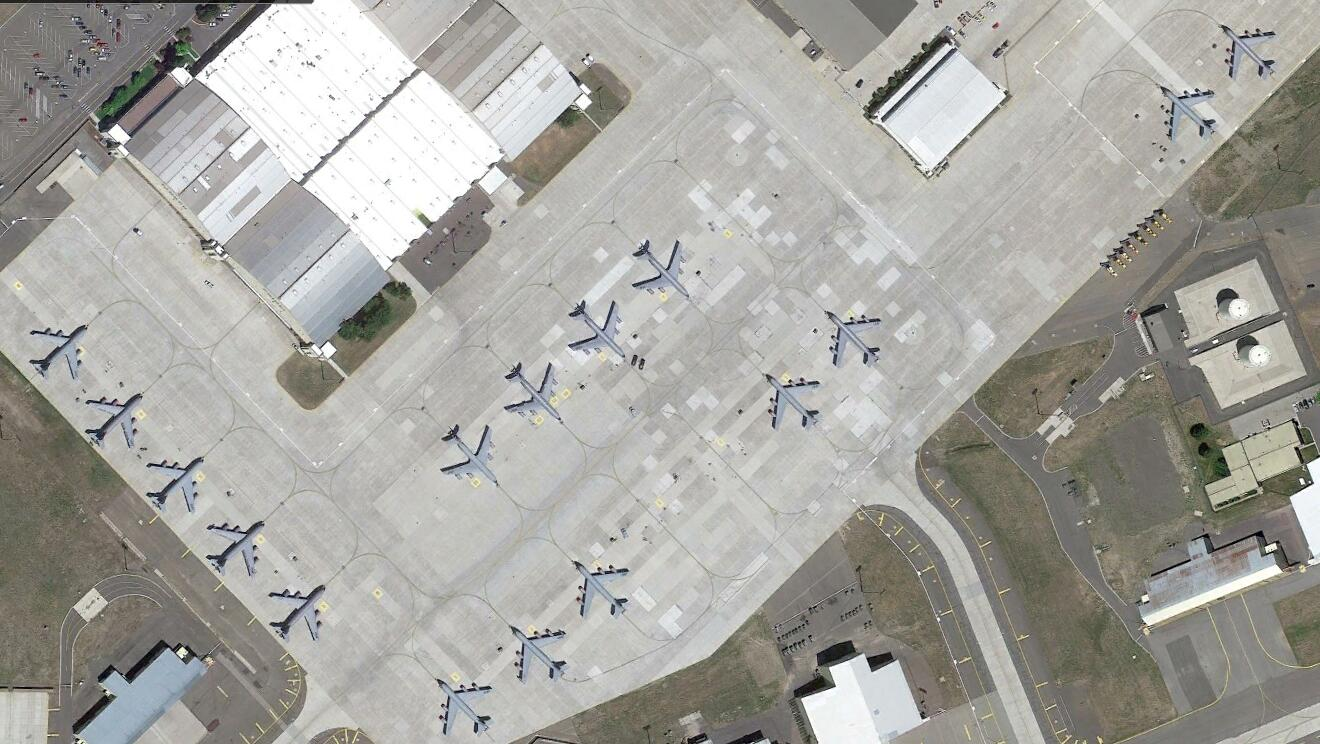A14: (633, 234, 694, 302), (763, 369, 825, 433), (144, 451, 208, 513), (505, 626, 572, 685), (502, 358, 565, 420), (440, 423, 502, 485), (87, 389, 146, 454), (568, 298, 629, 360), (270, 579, 329, 643), (822, 306, 882, 367), (206, 516, 267, 576), (29, 322, 91, 381), (572, 557, 632, 617), (433, 676, 494, 734), (1158, 84, 1219, 141), (1218, 22, 1277, 79)
